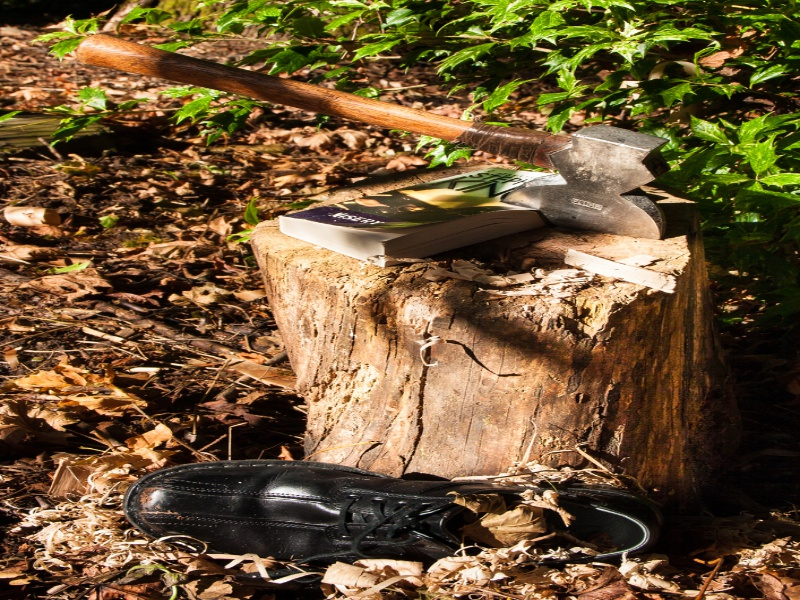axe: (68, 30, 670, 245)
